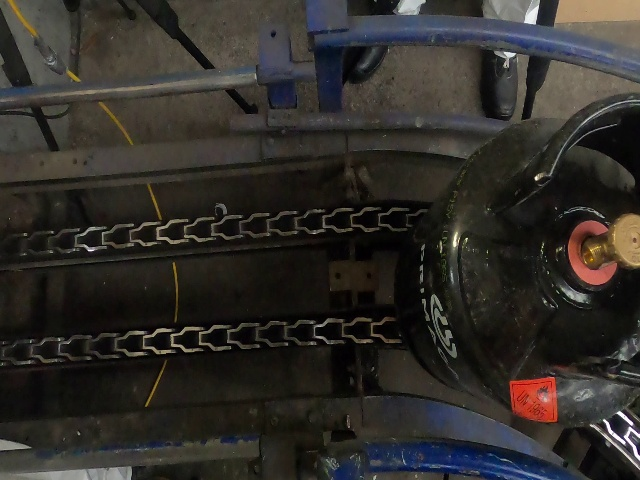gas_bottle: (2, 1, 639, 479)
